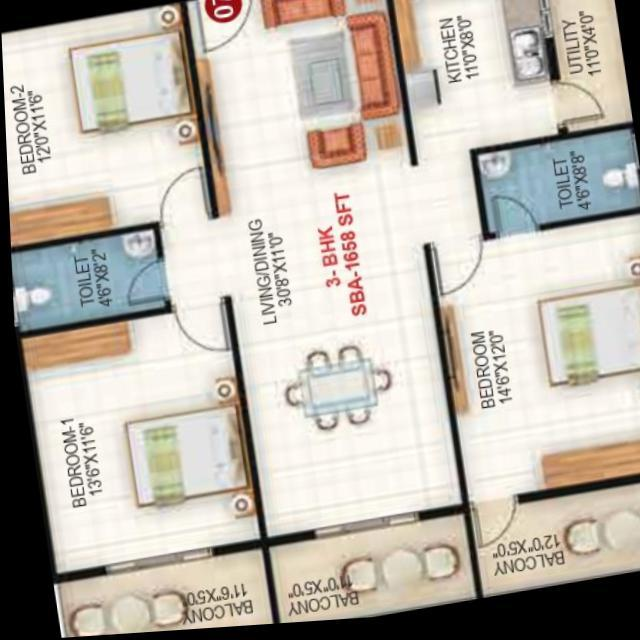Balcony-Sitout: (262, 521, 475, 627), (462, 490, 640, 603), (47, 552, 266, 638)
Bedroom: (18, 304, 255, 575), (1, 5, 201, 244)
Bedroom with Toilet: (424, 134, 640, 513)
Dining: (265, 339, 402, 444)
Enterance-Foyer: (186, 0, 263, 60)
Kitchen: (390, 0, 567, 167)
Living: (187, 0, 417, 220)
Toilet: (470, 135, 640, 247), (9, 227, 167, 336)
Utility: (545, 0, 631, 142)
